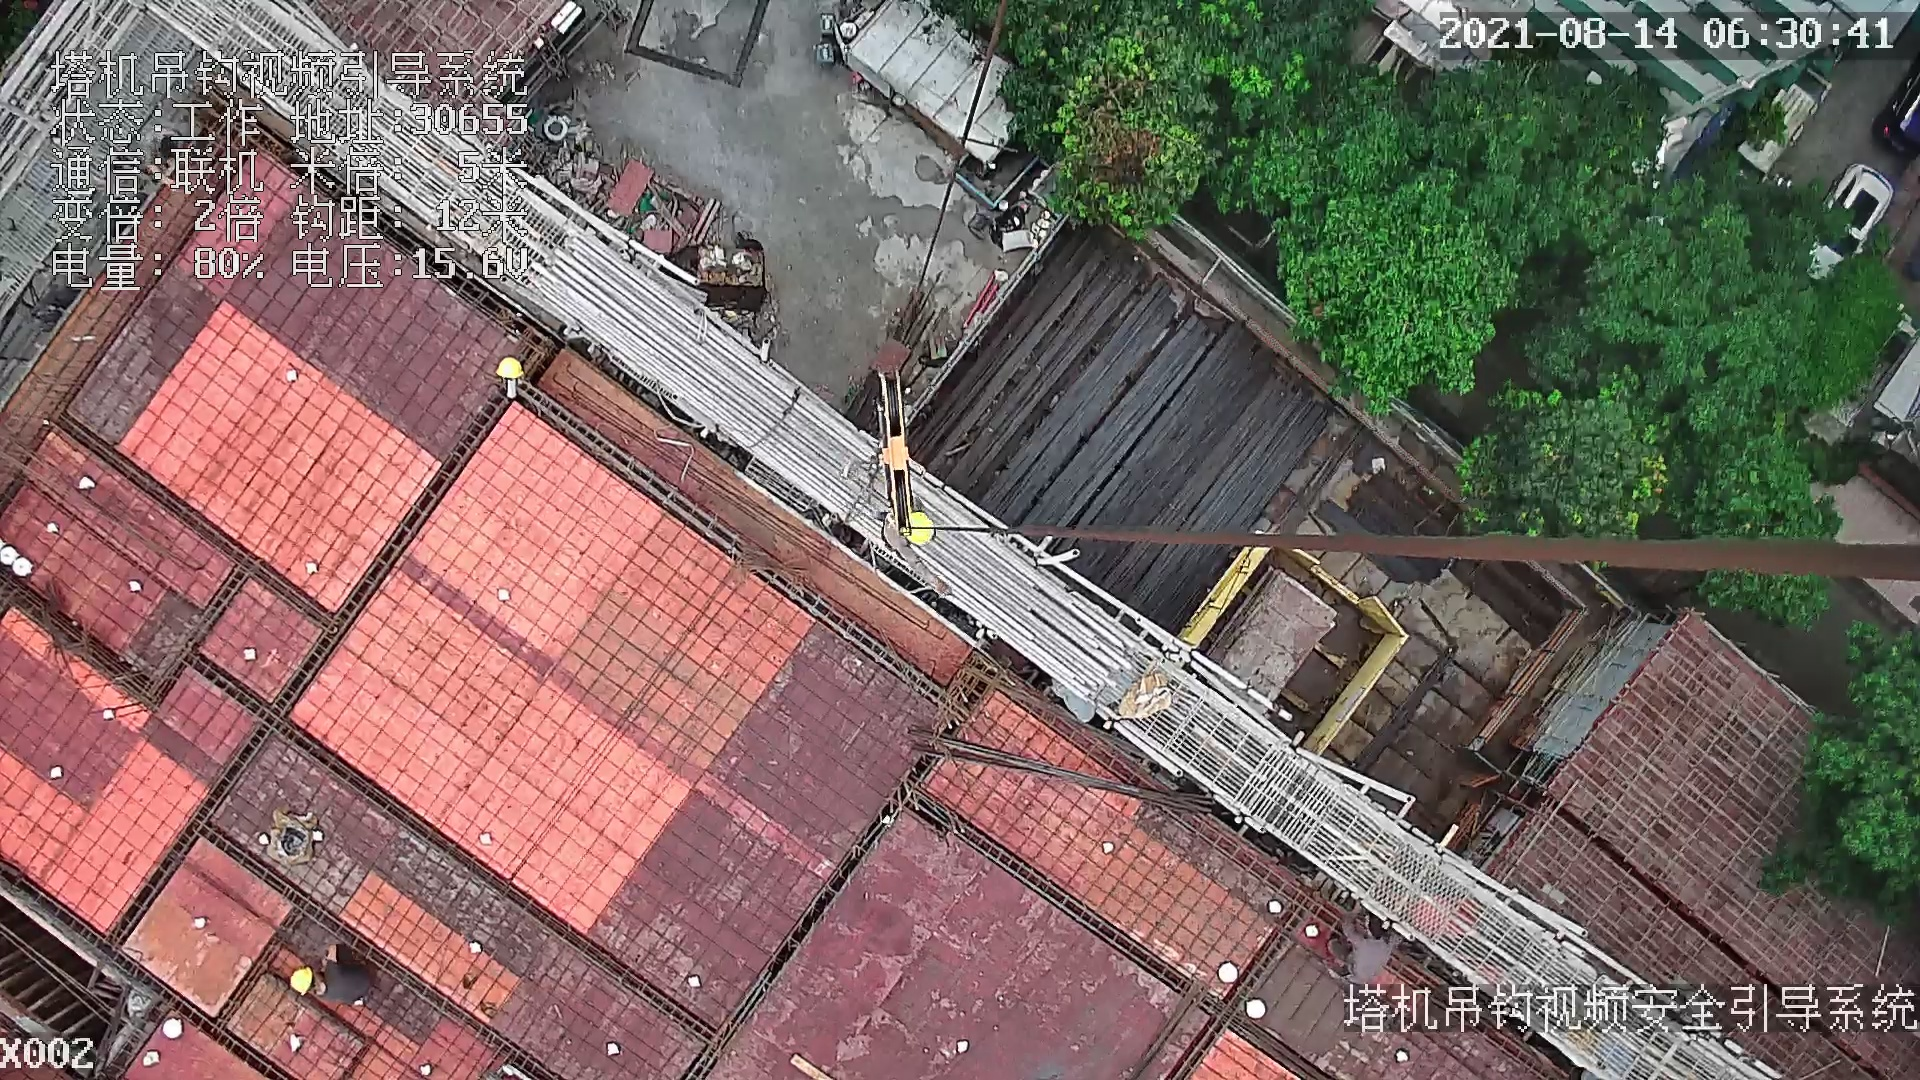helmet: (493, 355, 528, 381), (912, 511, 935, 548), (289, 967, 312, 996)
hook: (868, 367, 915, 537)
person: (286, 942, 392, 1012), (887, 509, 959, 603)
rebar: (931, 250, 1318, 595)
